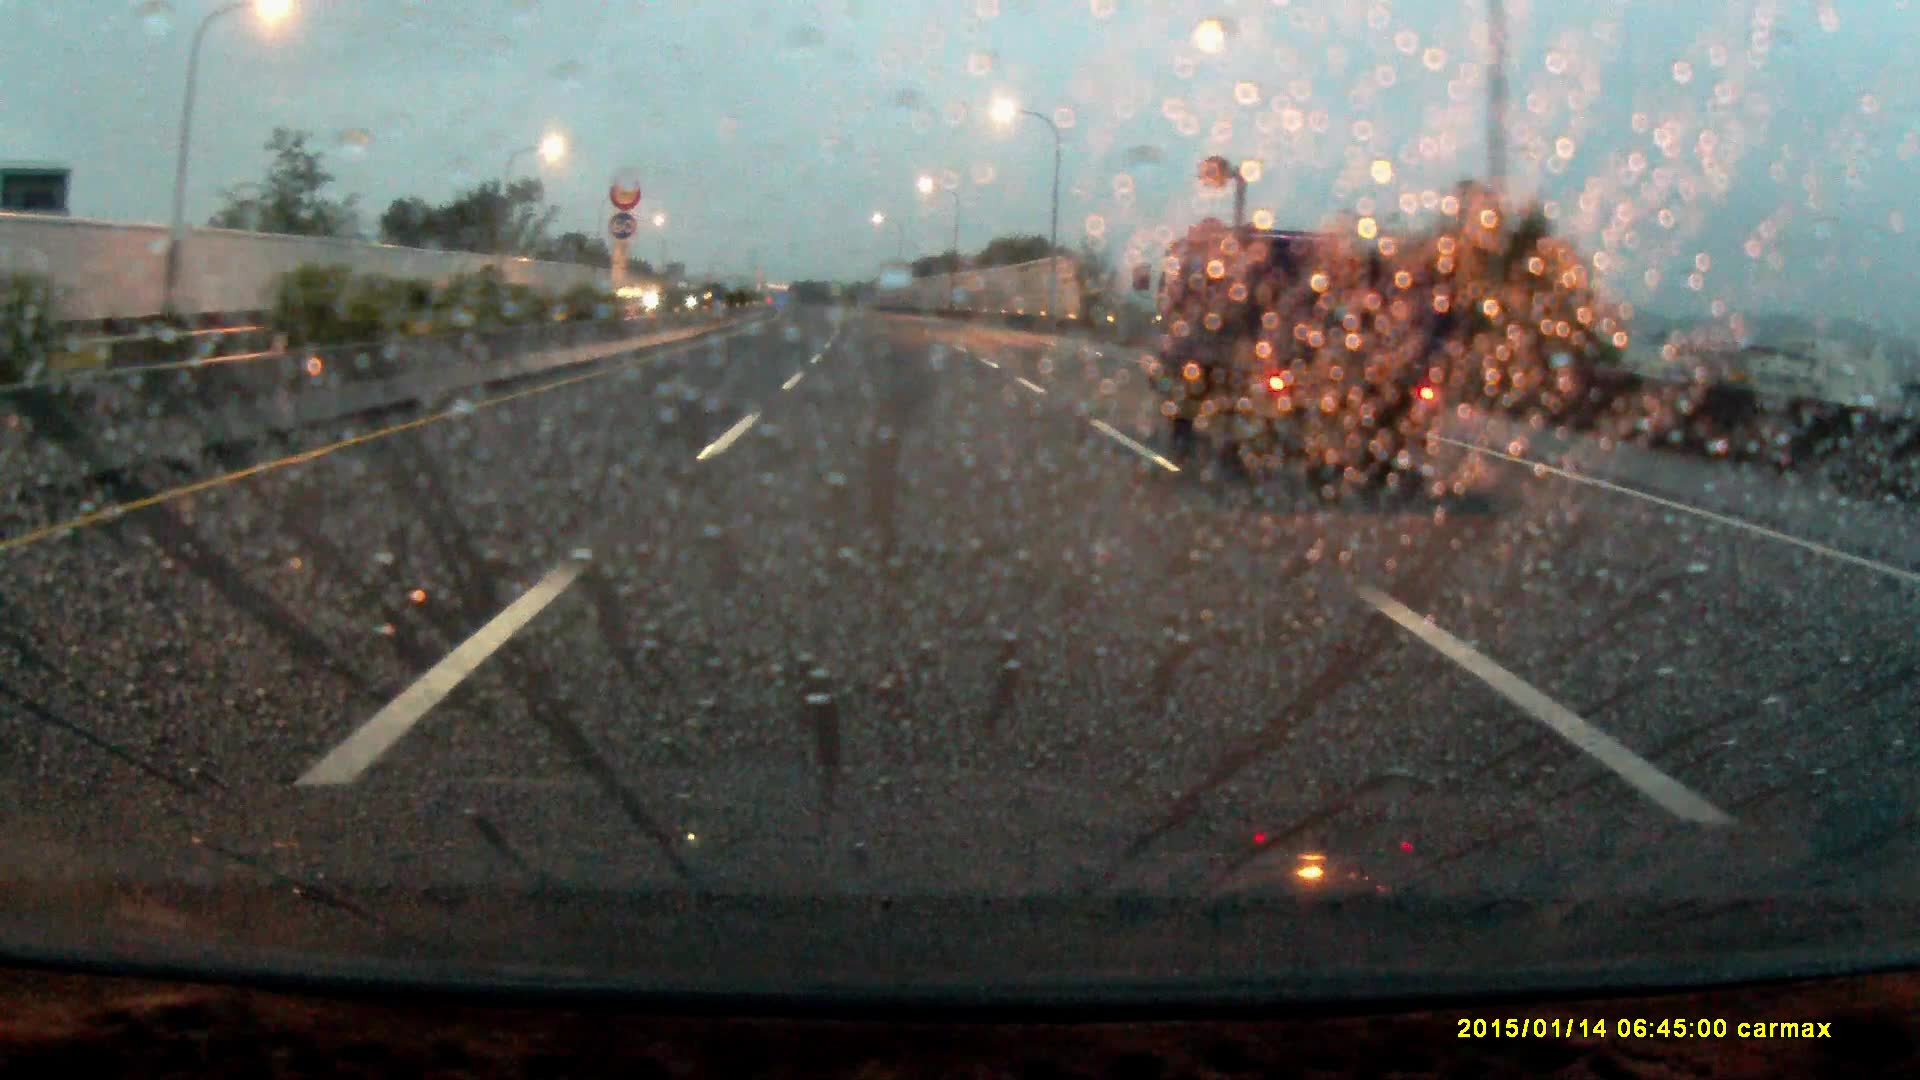vehicle: (1183, 208, 1473, 505)
